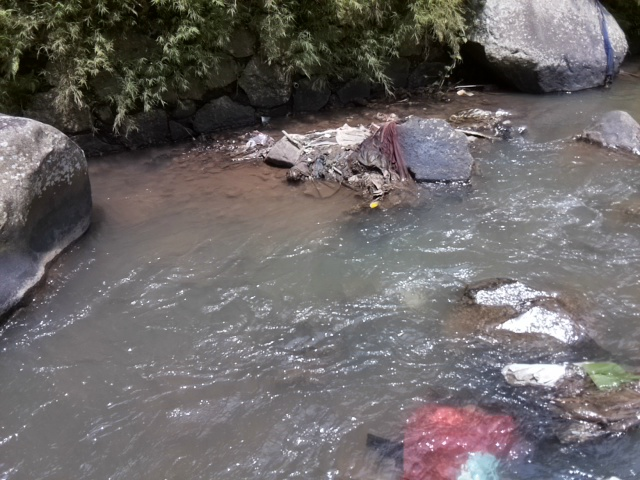Sampah_Plastik: (401, 399, 512, 480)
